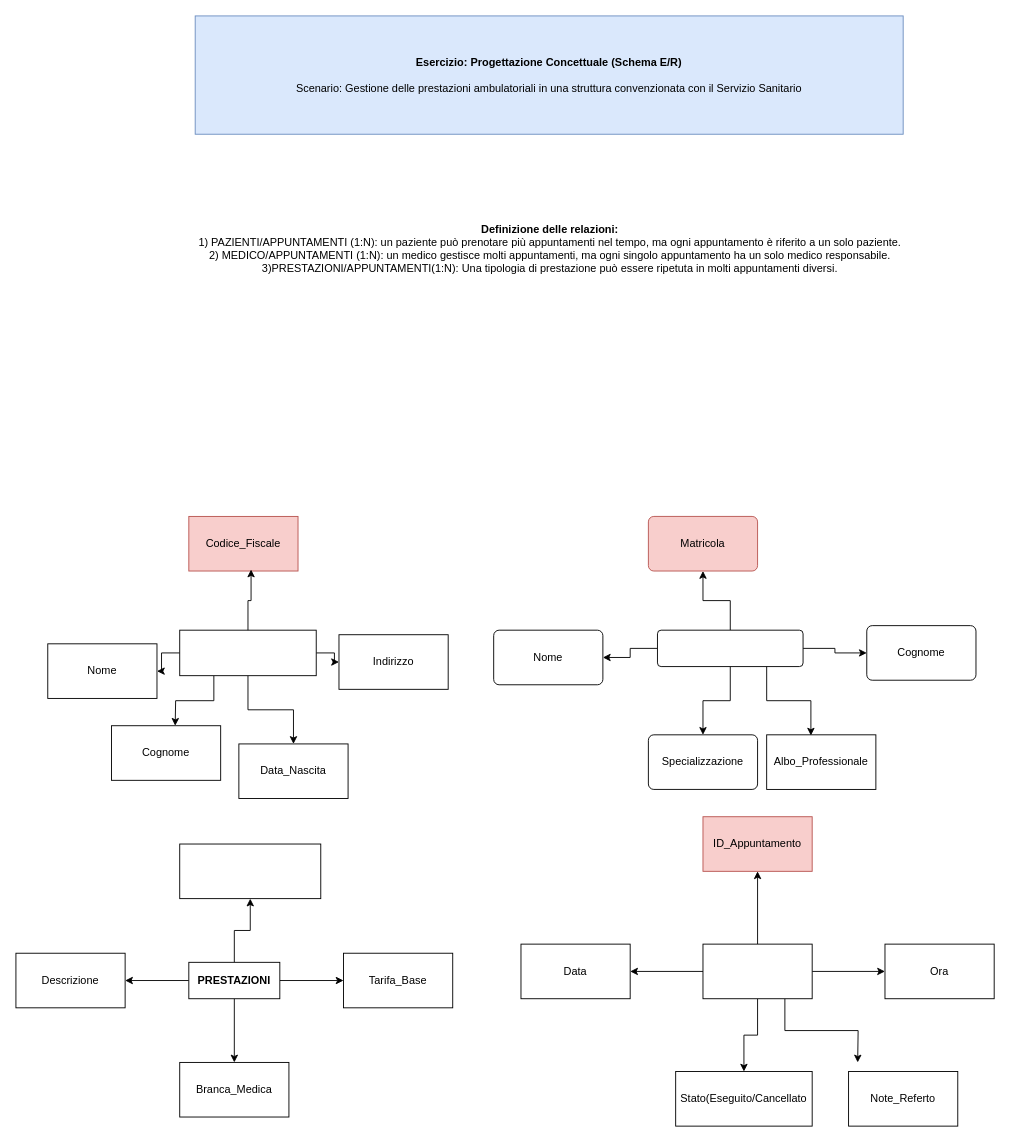
Some shapes in this 1010 by 1142 pixel diagram are drawn without their labels. Each missing label, with the centre of its shape:
"APPUNTAMENTI" goes at pixel 757 971.
"Codice_Nomenclatore" goes at pixel 250 871.
"MEDICO" goes at pixel 730 648.
"PAZIENTI" goes at pixel 247 652.
